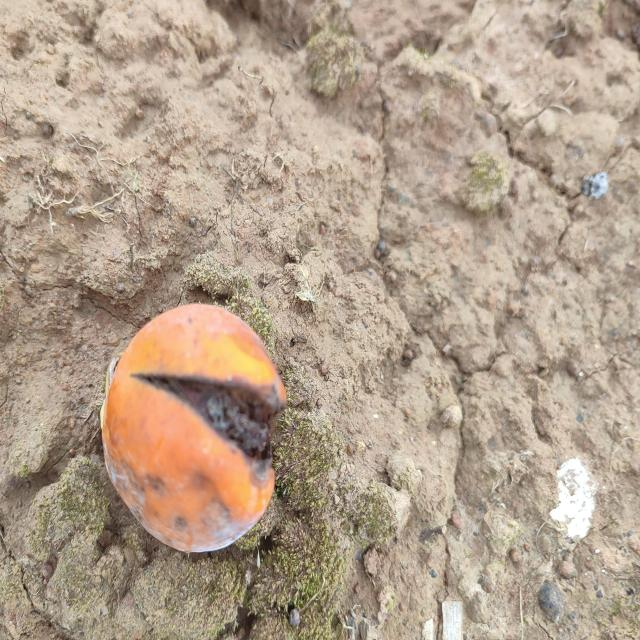damaged: (100, 303, 286, 556)
